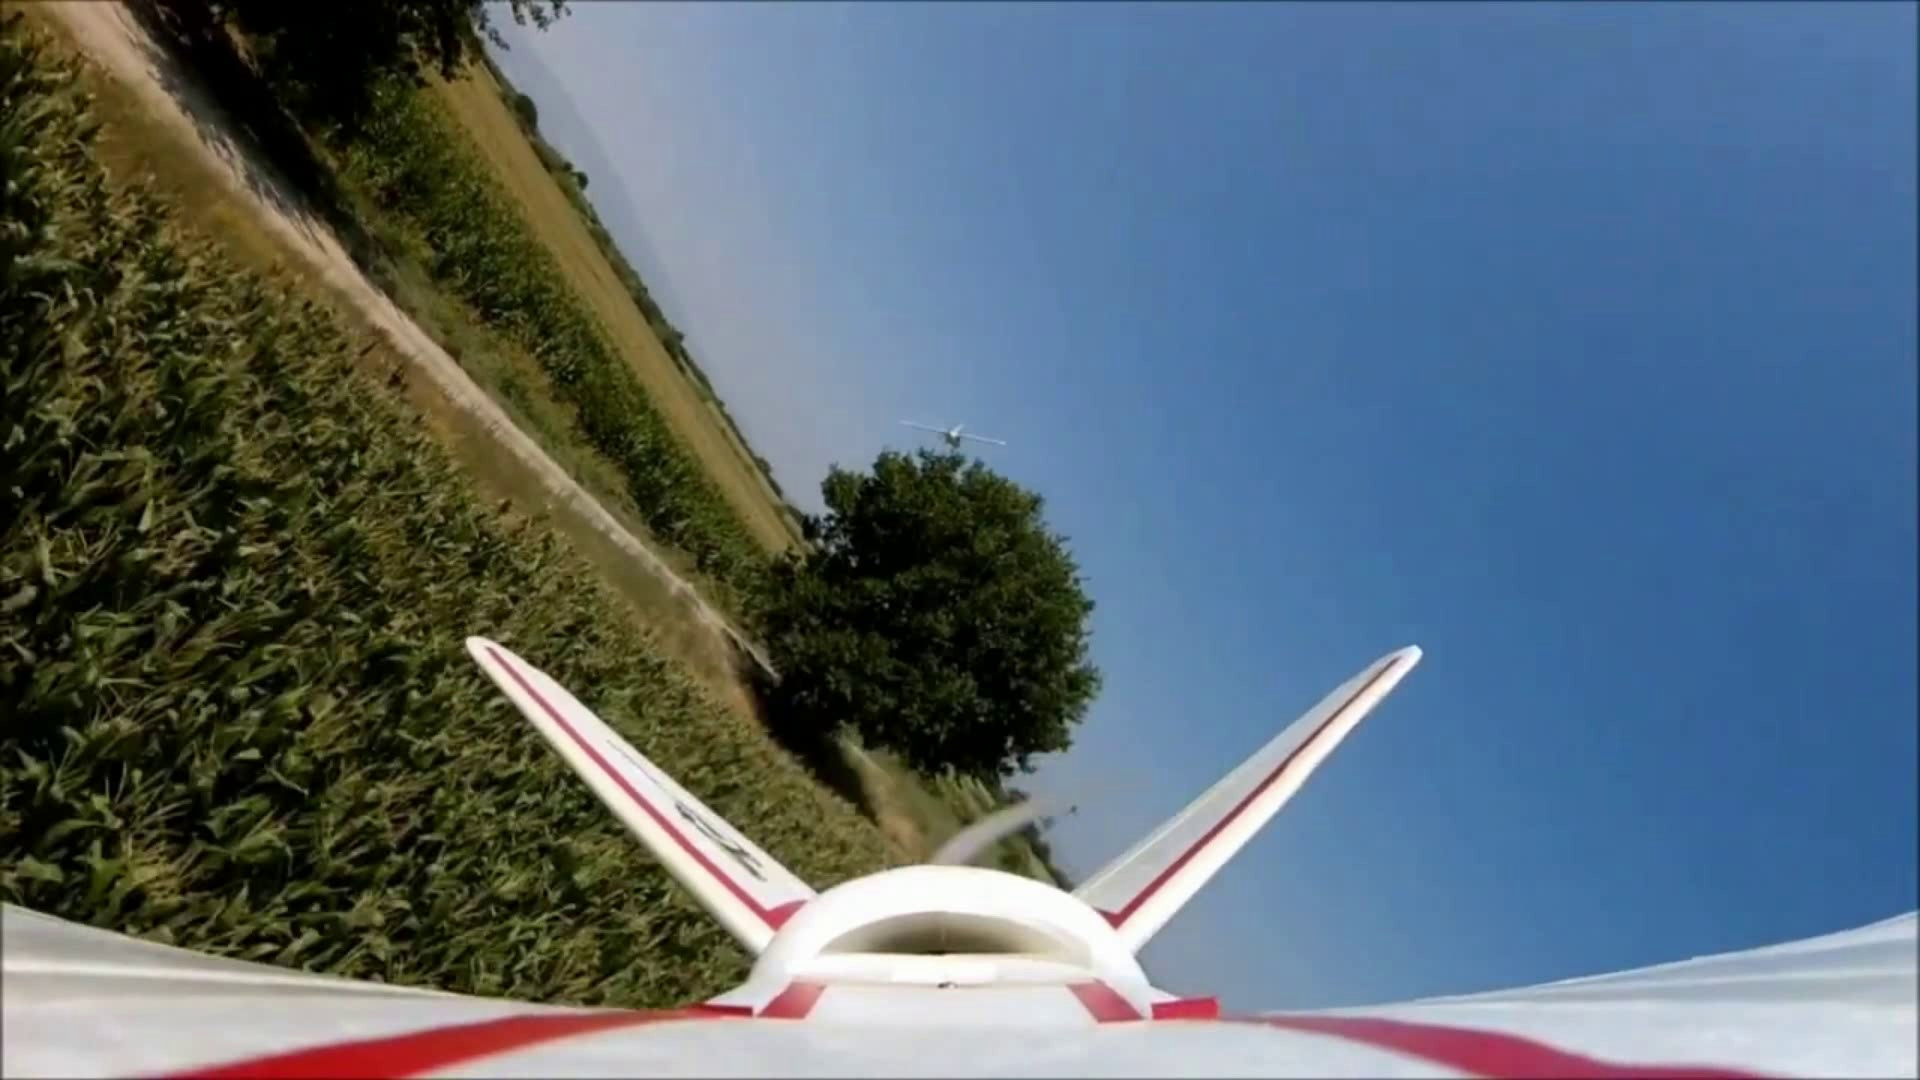airplane: (7, 636, 1911, 1067)
